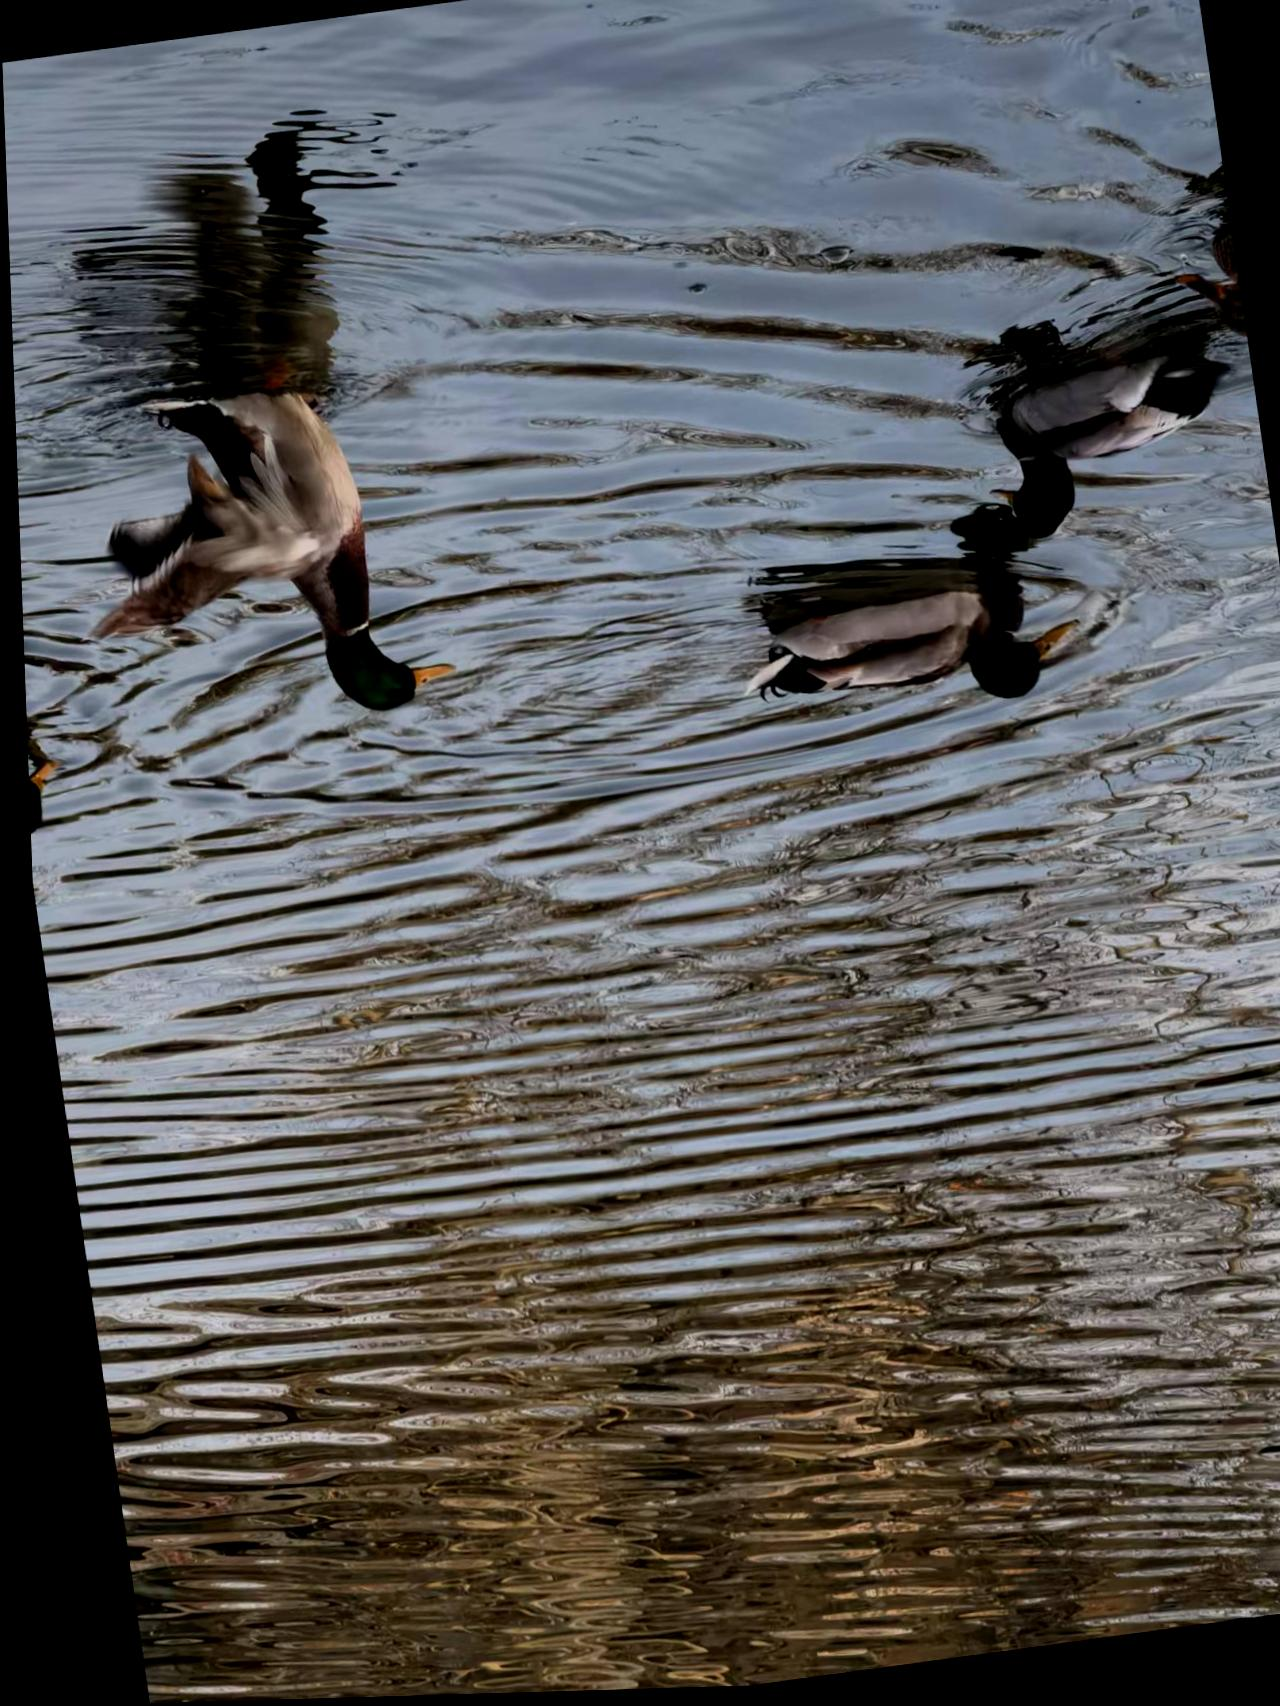duck: (60, 356, 484, 745), (908, 338, 1255, 568), (737, 572, 1080, 742)
